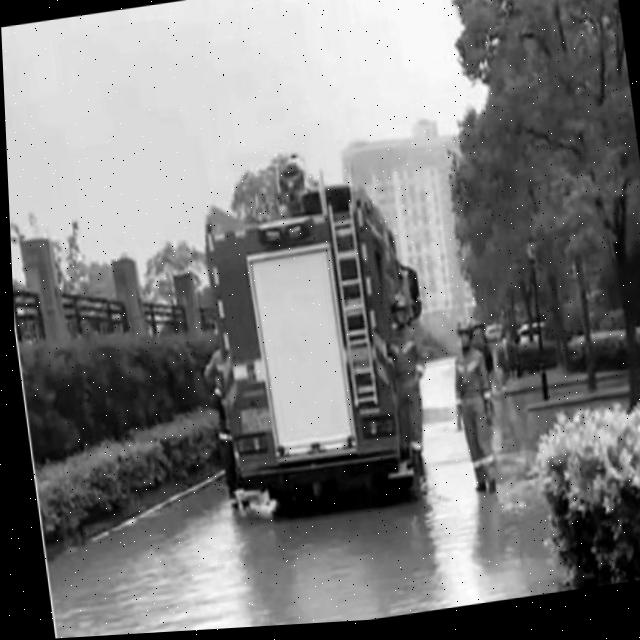rescuer: (434, 295, 536, 514), (378, 282, 441, 484)
